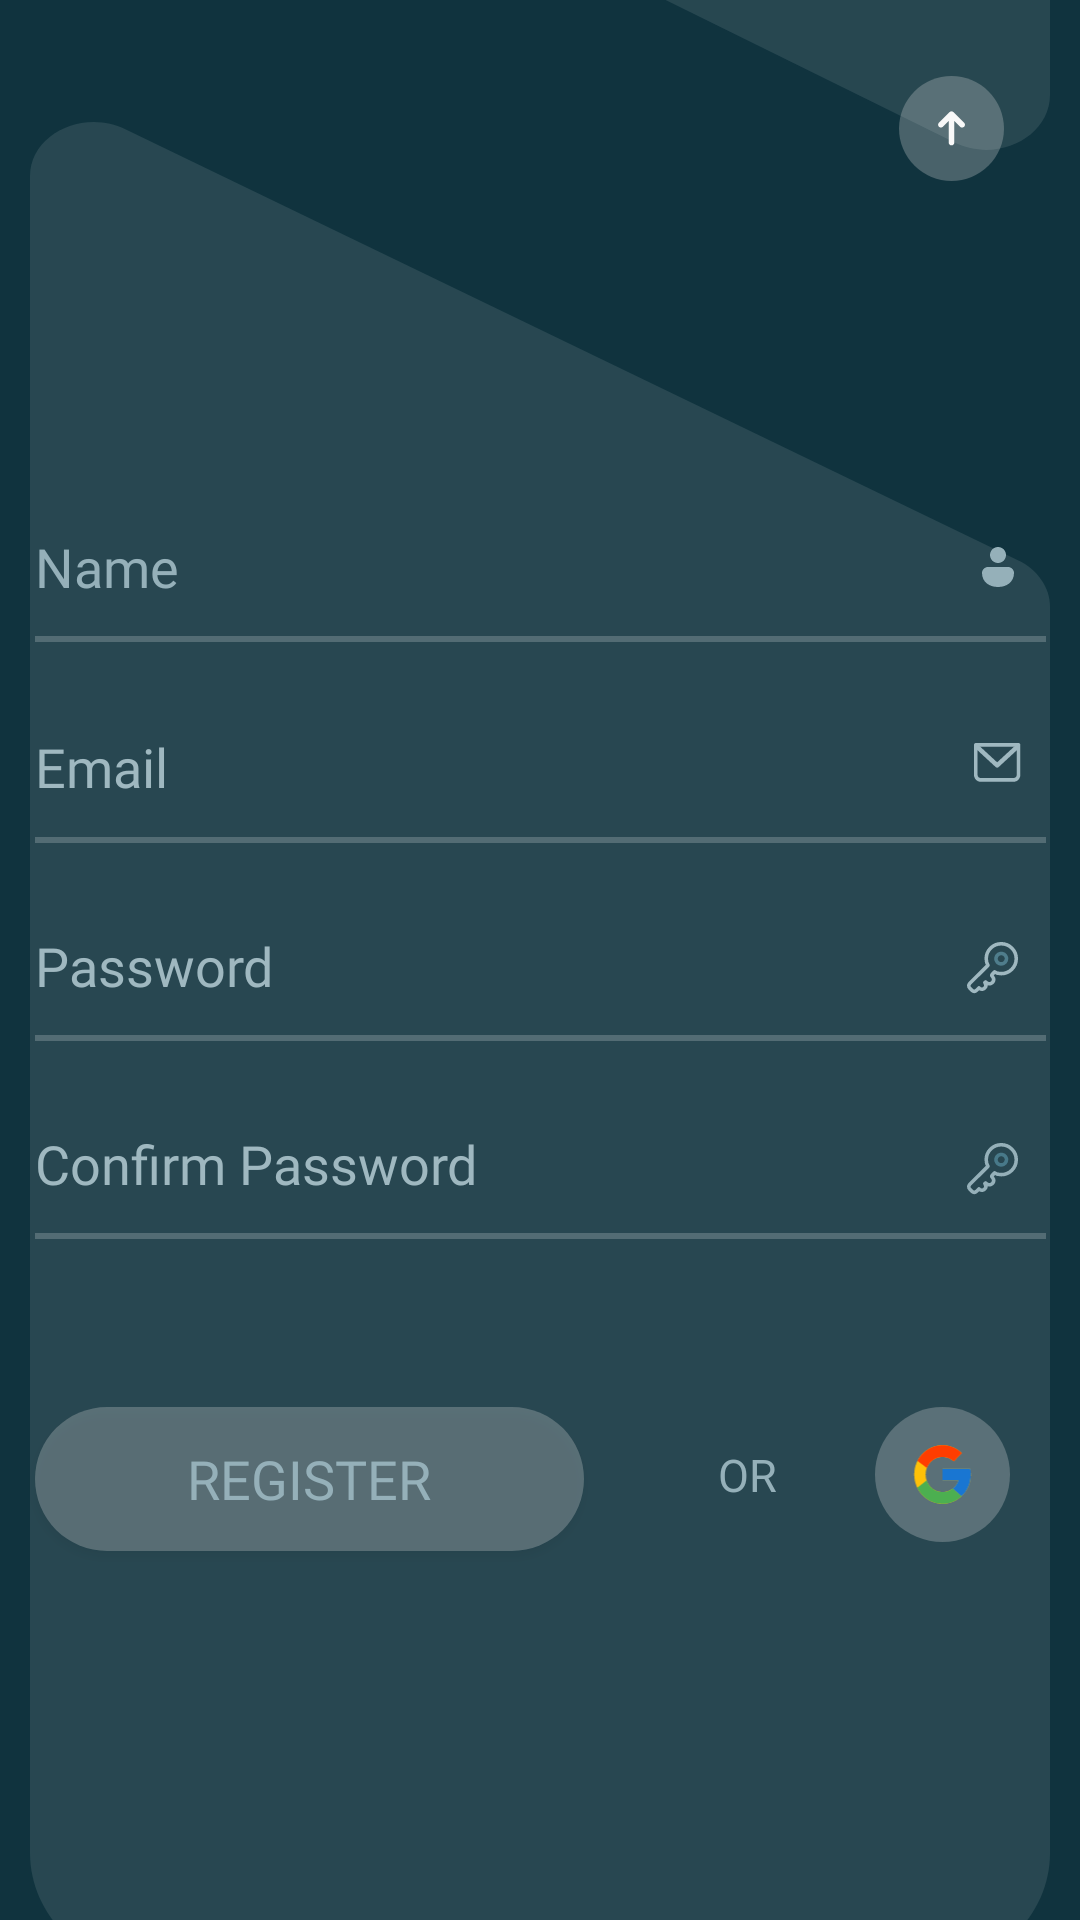

Icons on this 1080*1920 Android screen, each with the point to tap as (x=x, y=y):
arrow: (x=951, y=128)
person: (x=998, y=567)
